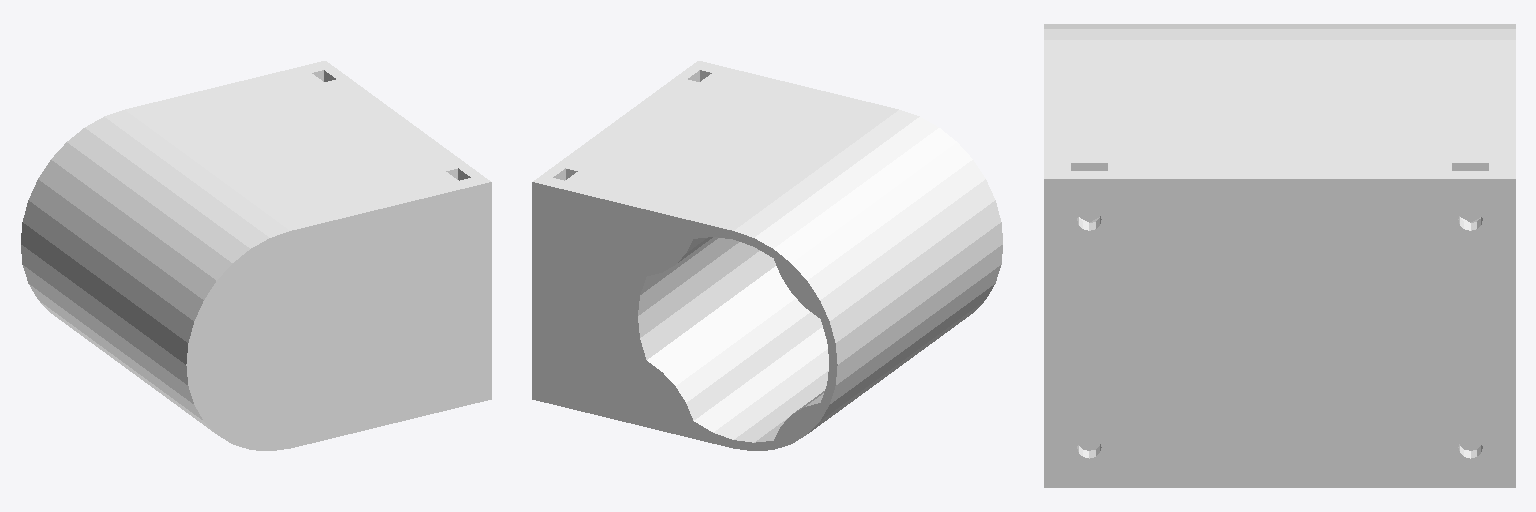
robot.urdf — Disposable_Brush_Container:
<?xml version="1.0" encoding="utf-8"?>
<!-- This URDF was automatically created by SolidWorks to URDF Exporter! Originally created by [author] ([email redacted]) 
     Commit Version: 1.6.0-1-g15f4949  Build Version: 1.6.7594.29634
     For more information, please see http://wiki.ros.org/sw_urdf_exporter -->
<robot
  name="Disposable_Brush_Container">
  <link
    name="base_link">
    <inertial>
      <origin
        xyz="0.037309 0.045597 5.8905E-16"
        rpy="0 0 0" />
      <mass
        value="0.47993" />
      <inertia
        ixx="0.00073716"
        ixy="-3.4076E-05"
        ixz="1.0993E-17"
        iyy="0.00065522"
        iyz="-1.3032E-18"
        izz="0.00084971" />
    </inertial>
    <visual>
      <origin
        xyz="0 0 0"
        rpy="0 0 0" />
      <geometry>
        <mesh
          filename="package://Disposable_Brush_Container/meshes/base_link.STL" />
      </geometry>
      <material
        name="ABS">
        <color
          rgba="1 1 1 1" />
      </material>
    </visual>
    <collision>
      <origin
        xyz="0 0 0"
        rpy="0 0 0" />
      <geometry>
        <mesh
          filename="package://Disposable_Brush_Container/meshes/base_link.STL" />
      </geometry>
    </collision>
  </link>
</robot>

--- What the picture shows (computed from the rendered views, not written in the file) ---
3 views of the same robot in one strip: view 1: azimuth 30°, elevation 25°; view 2: azimuth 150°, elevation 25°; view 3: azimuth 270°, elevation 25° (orthographic).
Robot: Disposable_Brush_Container — 1 links, 0 joints (none); root link base_link; default pose: every joint at zero.
Links seen in each view (by area): view 1: base_link; view 2: base_link; view 3: base_link.
Boxes of the visible links, x1,y1,x2,y2 form: base_link: (21,61,491,450); base_link: (532,61,1002,450); base_link: (1044,24,1515,487).
Size in the robot's own frame: 0.1115 by 0.105 by 0.076 metres.
Meshes: 1 distinct files referenced, 1 mesh visuals loaded (1 binary STL).